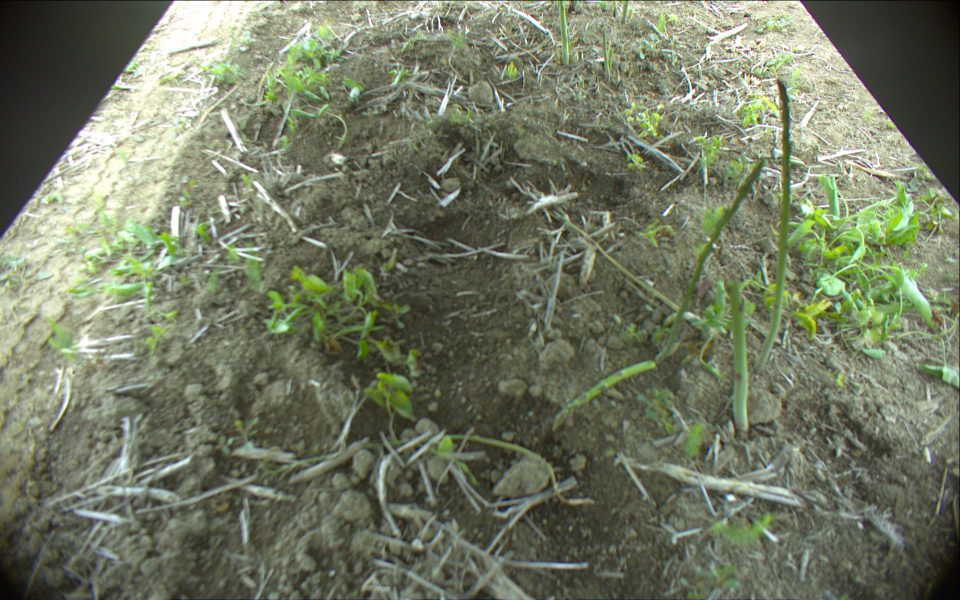aspa: (655, 158, 763, 363), (754, 78, 791, 366), (571, 360, 657, 411), (729, 287, 749, 439), (555, 1, 570, 66), (602, 29, 612, 78), (621, 1, 632, 22), (607, 42, 613, 65)
